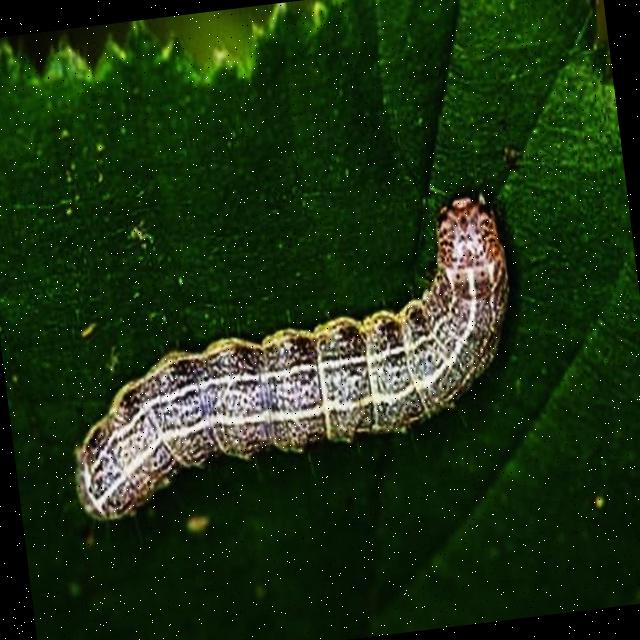worm: (45, 189, 534, 528)
